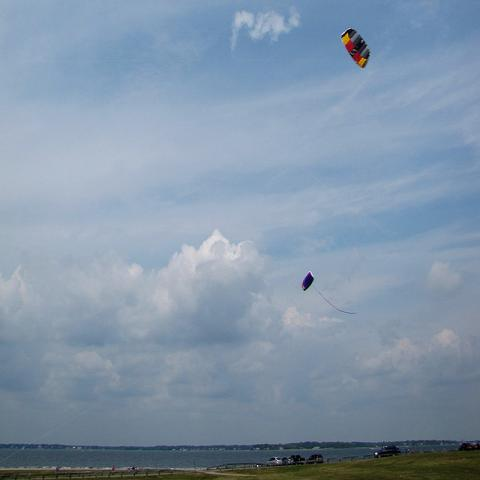car: (374, 444, 401, 458), (306, 454, 324, 464), (458, 442, 475, 451), (265, 458, 283, 466), (291, 455, 305, 465), (281, 456, 294, 466), (473, 438, 480, 450)
